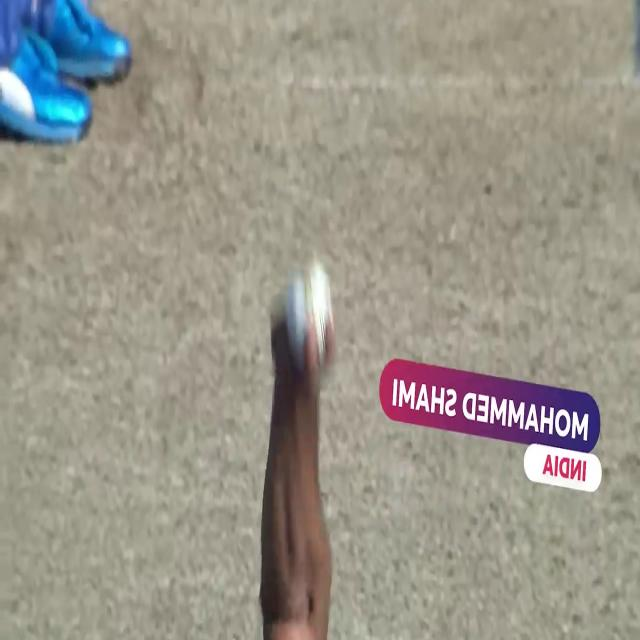ball: (282, 255, 338, 369)
